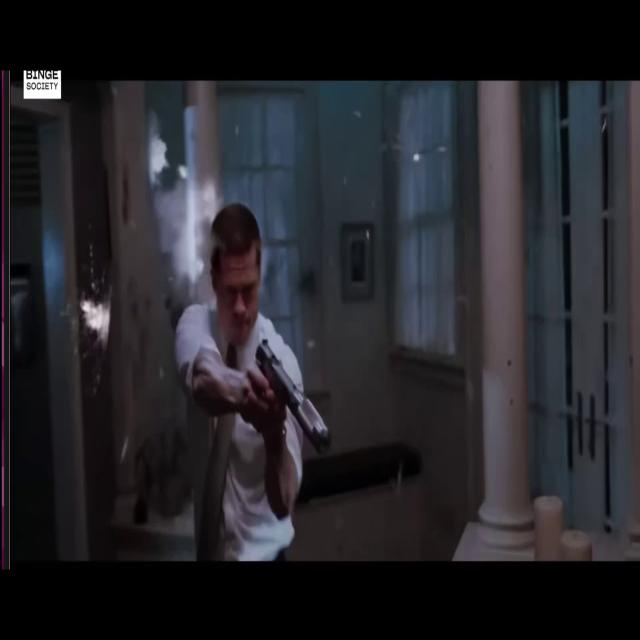weapons: (228, 327, 342, 484)
